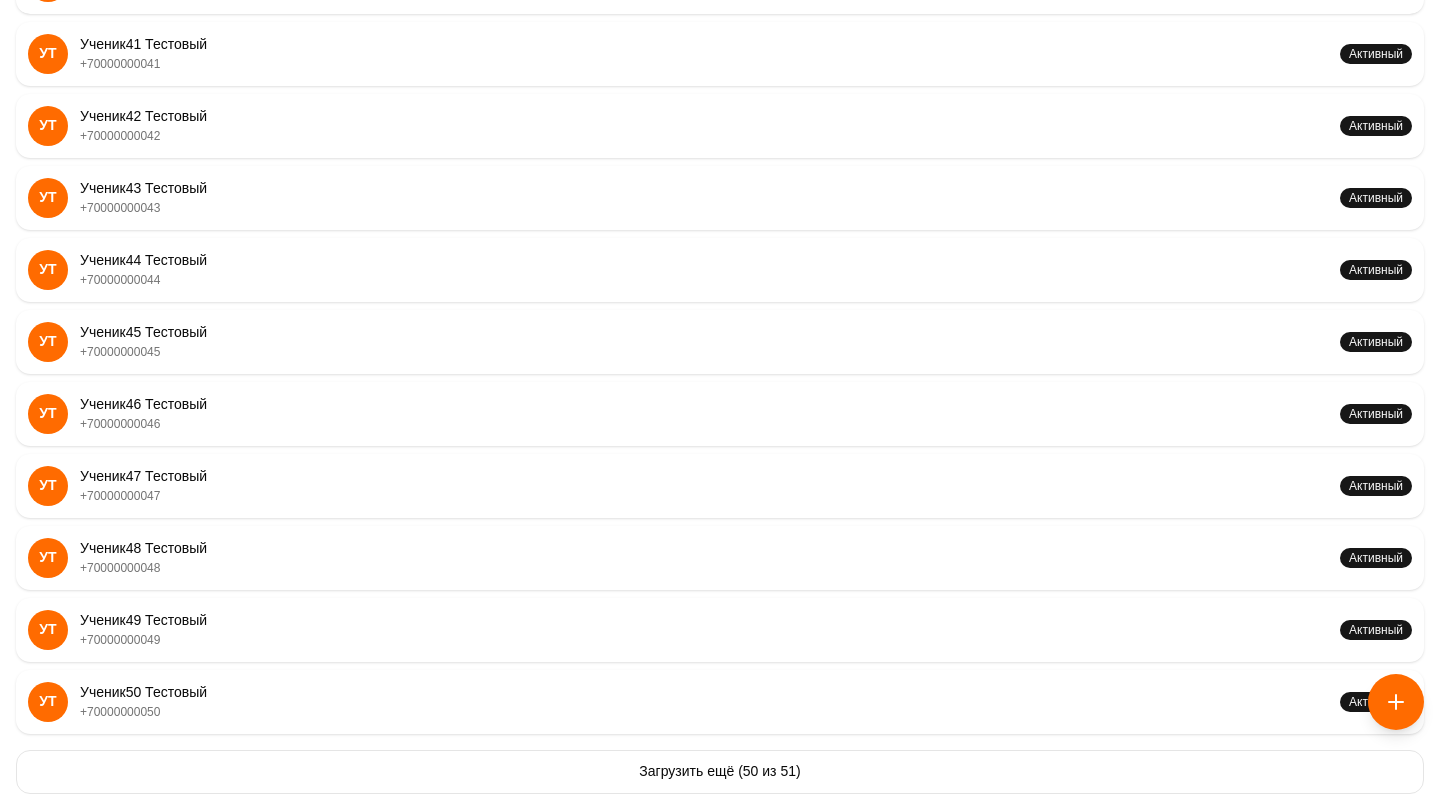
Test: Trainer students page › loads the next student page instead of hiding records after the first page
(page scrolled)
Expected: the text "Ученик51 Тестовый" is not shown
Click the button "Загрузить ещё (50 из 51)": point(720, 772) [16,750,1424,794]
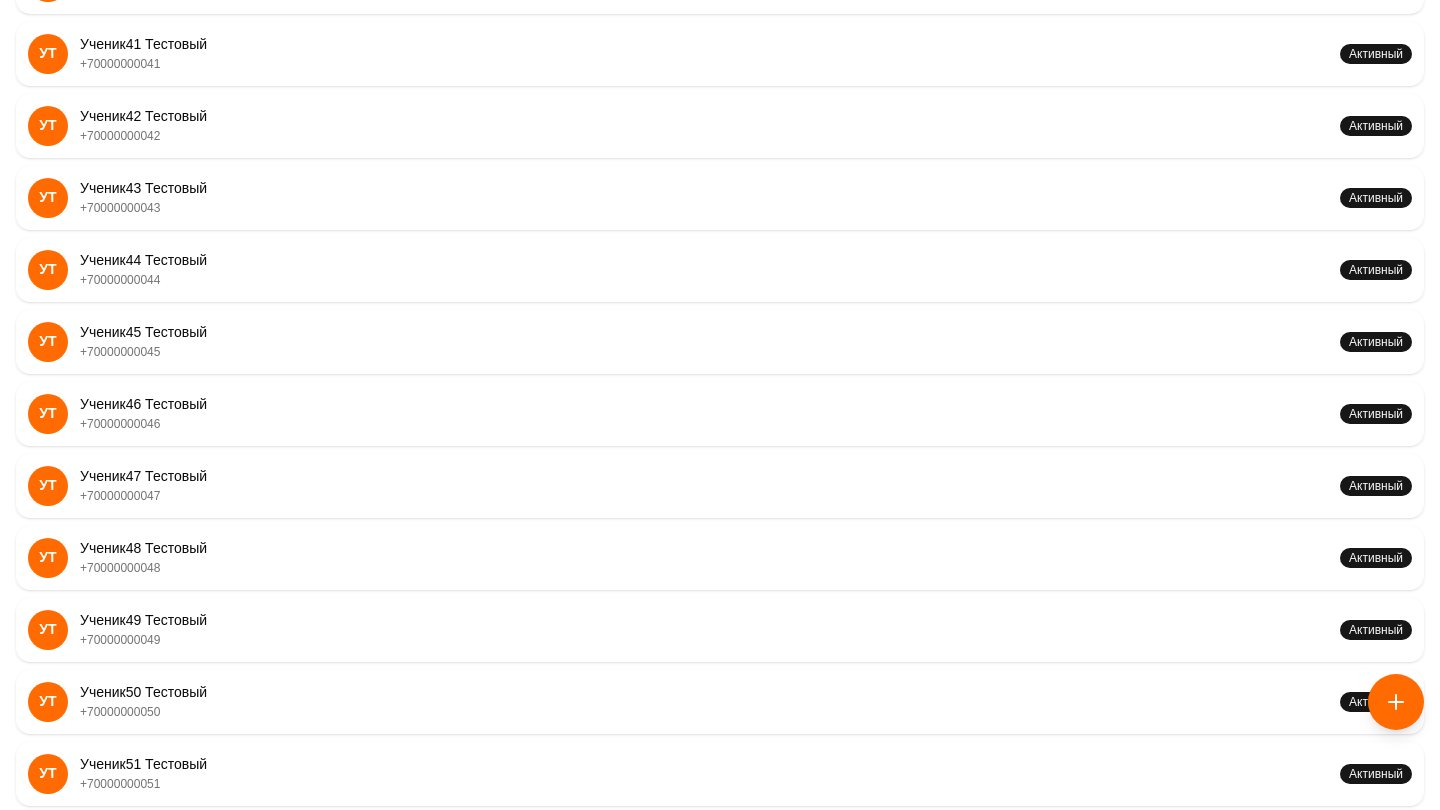
Now the text "Ученик51 Тестовый" is shown, box [80,756,207,772]
